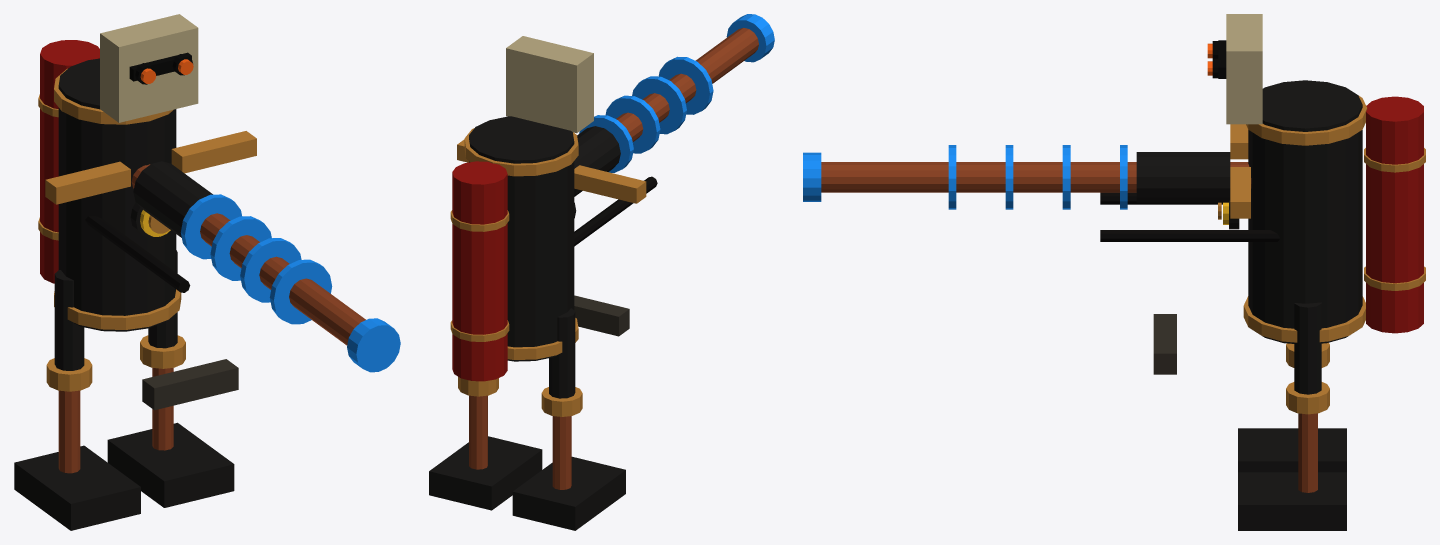
The model's file is ENEMY_ERB_Lancer_ReadabilityUpgrade_LOD0.obj.
3 views of the same model, side by side, from view 1: azimuth 30°, elevation 25°; view 2: azimuth 150°, elevation 25°; view 3: azimuth 270°, elevation 25° (orthographic). The views are drawn at different scales.
Parts seen in each view (by area): view 1: lancer_narrow_blackened_spine_torso, lancer_cream_enamel_long_mask, lancer_left_stilt_broad_blackened_iron_foot, lancer_right_stilt_broad_blackened_iron_foot, lancer_back_vertical_pressure_tank_danger_red_pressure_tank_shel, lancer_main_copper_lance_barrel, lancer_blackened_outer_lance_sleeve, lancer_recoil_shutdown_fragment_mount, lancer_left_stilt_upper_blackened_piston_leg, lancer_left_shoulder_brace, lancer_right_shoulder_brace, lancer_muzzle_blue_bolt_tell_core (+13 smaller); view 2: lancer_narrow_blackened_spine_torso, lancer_back_vertical_pressure_tank_danger_red_pressure_tank_shel, lancer_cream_enamel_long_mask, lancer_left_stilt_broad_blackened_iron_foot, lancer_right_stilt_broad_blackened_iron_foot, lancer_main_copper_lance_barrel, lancer_left_stilt_upper_blackened_piston_leg, lancer_left_shoulder_brace, lancer_blackened_outer_lance_sleeve, lancer_recoil_shutdown_fragment_mount, lancer_forward_lance_bolt_charge_ring_01, lancer_forward_lance_bolt_charge_ring_02 (+12 smaller); view 3: lancer_narrow_blackened_spine_torso, lancer_back_vertical_pressure_tank_danger_red_pressure_tank_shel, lancer_main_copper_lance_barrel, lancer_right_stilt_broad_blackened_iron_foot, lancer_blackened_outer_lance_sleeve, lancer_cream_enamel_long_mask, lancer_left_stilt_broad_blackened_iron_foot, lancer_right_stilt_upper_blackened_piston_leg, lancer_right_aiming_hose, lancer_upper_aged_brass_spine_band, lancer_lower_aged_brass_spine_band, lancer_right_stilt_lower_copper_piston_leg (+4 smaller).
Part boxes in pixels (x1,y1,x2,y2): lancer_narrow_blackened_spine_torso: [58, 58, 176, 331]; lancer_cream_enamel_long_mask: [100, 14, 198, 122]; lancer_left_stilt_broad_blackened_iron_foot: [14, 445, 140, 530]; lancer_right_stilt_broad_blackened_iron_foot: [107, 422, 234, 507]; lancer_back_vertical_pressure_tank_danger_red_pressure_tank_shel: [40, 40, 99, 283]; lancer_main_copper_lance_barrel: [131, 164, 365, 345]; lancer_blackened_outer_lance_sleeve: [133, 161, 212, 237]; lancer_recoil_shutdown_fragment_mount: [142, 359, 238, 410]; lancer_left_stilt_upper_blackened_piston_leg: [54, 270, 84, 370]; lancer_left_shoulder_brace: [45, 161, 130, 204]; lancer_right_shoulder_brace: [171, 131, 256, 173]; lancer_muzzle_blue_bolt_tell_core: [347, 318, 400, 372]; lancer_narrow_blackened_spine_torso: [469, 116, 574, 361]; lancer_back_vertical_pressure_tank_danger_red_pressure_tank_shel: [452, 161, 507, 381]; lancer_cream_enamel_long_mask: [506, 36, 593, 133]; lancer_left_stilt_broad_blackened_iron_foot: [512, 456, 625, 530]; lancer_right_stilt_broad_blackened_iron_foot: [429, 436, 542, 510]; lancer_main_copper_lance_barrel: [616, 28, 758, 141]; lancer_left_stilt_upper_blackened_piston_leg: [549, 308, 575, 398]; lancer_left_shoulder_brace: [574, 165, 646, 203]; lancer_blackened_outer_lance_sleeve: [574, 126, 620, 196]; lancer_recoil_shutdown_fragment_mount: [574, 295, 629, 336]; lancer_forward_lance_bolt_charge_ring_01: [605, 95, 660, 153]; lancer_forward_lance_bolt_charge_ring_02: [632, 76, 686, 134]; lancer_narrow_blackened_spine_torso: [1248, 80, 1362, 343]; lancer_back_vertical_pressure_tank_danger_red_pressure_tank_shel: [1366, 96, 1423, 333]; lancer_main_copper_lance_barrel: [821, 162, 1251, 192]; lancer_right_stilt_broad_blackened_iron_foot: [1238, 472, 1346, 530]; lancer_blackened_outer_lance_sleeve: [1136, 152, 1230, 202]; lancer_cream_enamel_long_mask: [1226, 14, 1262, 124]; lancer_left_stilt_broad_blackened_iron_foot: [1238, 428, 1346, 472]; lancer_right_stilt_upper_blackened_piston_leg: [1294, 302, 1321, 394]; lancer_right_aiming_hose: [1100, 230, 1280, 241]; lancer_upper_aged_brass_spine_band: [1246, 95, 1367, 145]; lancer_lower_aged_brass_spine_band: [1243, 296, 1365, 342]; lancer_right_stilt_lower_copper_piston_leg: [1298, 413, 1317, 492].
Size of the model in its own units: 0.86 by 1.96 by 2.4.
